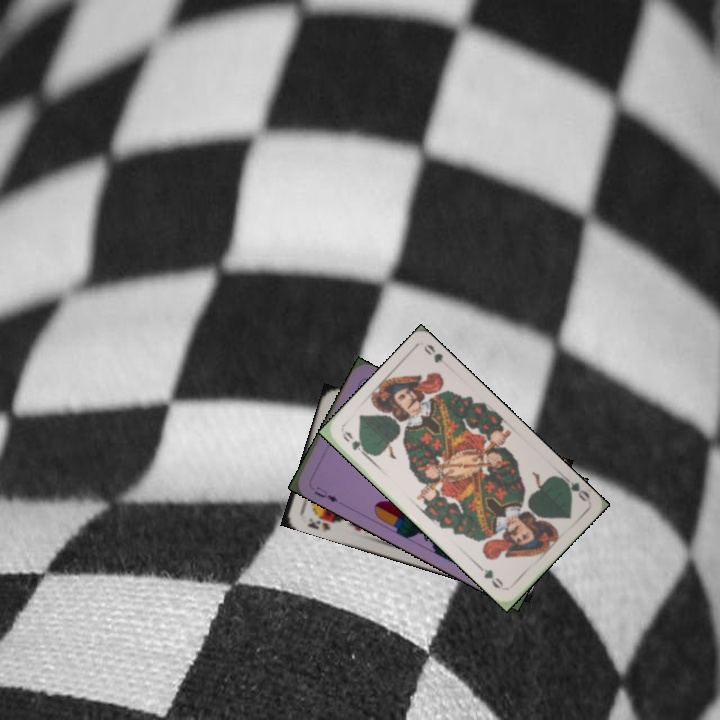EU: (310, 482, 340, 505)
GO: (555, 471, 593, 504), (338, 427, 373, 461)
SK: (303, 514, 333, 534)
